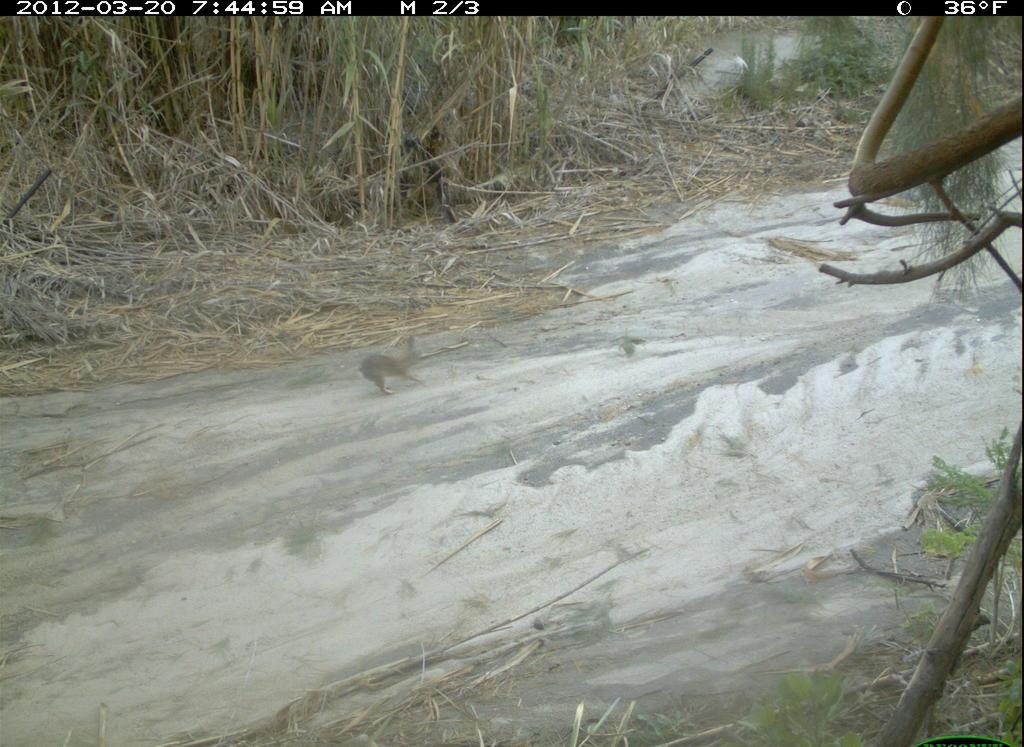rabbit: (353, 331, 436, 400)
